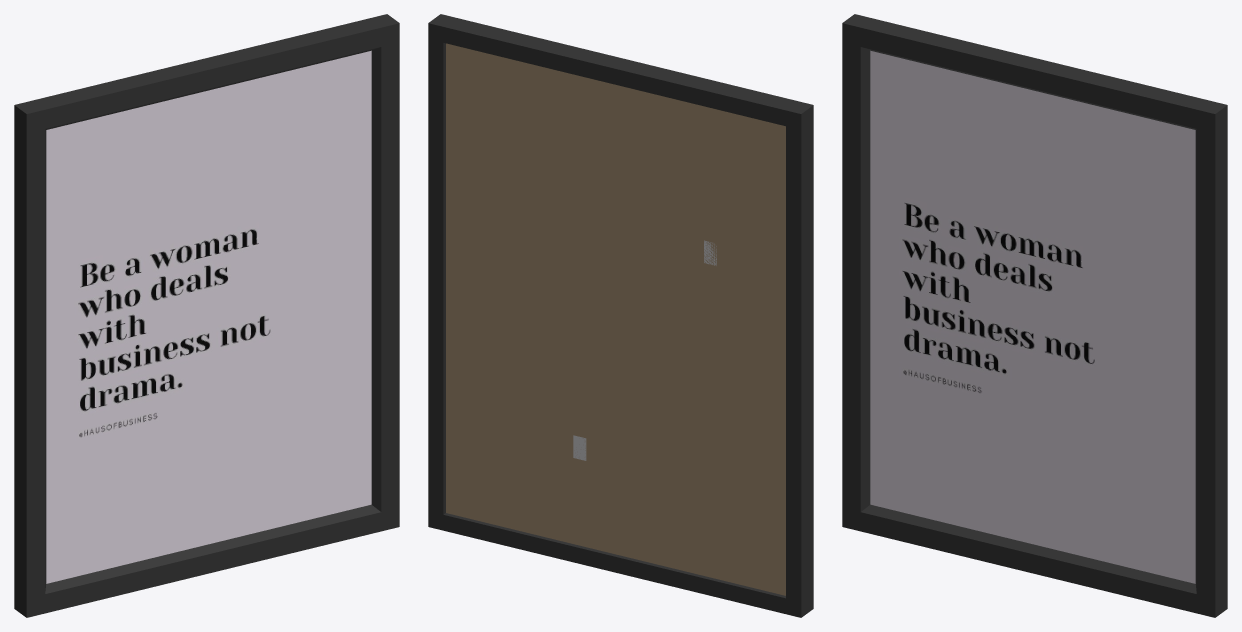
File: business-not-drama-30x40.glb
3 views of the same model, side by side, from view 1: azimuth 30°, elevation 25°; view 2: azimuth 150°, elevation 25°; view 3: azimuth 330°, elevation 25° (orthographic).
Visible parts, largest first — view 1: LAWHA 30x40; view 2: LAWHA 30x40; view 3: LAWHA 30x40.
Boxes of the visible parts, box(x1,y1,x2,y2) form: LAWHA 30x40: box(14, 14, 399, 617); LAWHA 30x40: box(428, 14, 813, 617); LAWHA 30x40: box(842, 14, 1227, 617).
Bounding box in the file's own units: 0.344 × 0.444 × 0.02.
4 materials, 1 textured.
